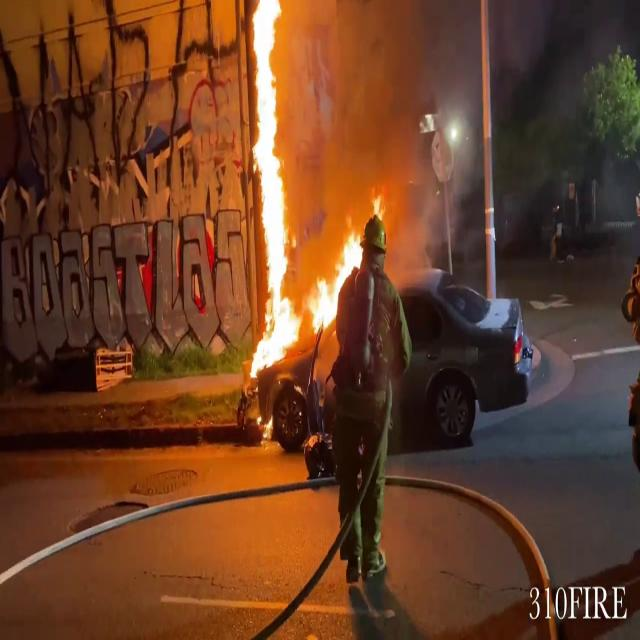Fire: (246, 0, 298, 377), (310, 214, 366, 332)
